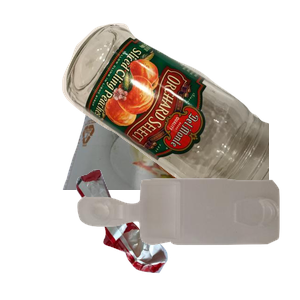glass: (60, 21, 300, 201)
metal: (60, 82, 300, 262)
plastic: (75, 176, 300, 300)
trash: (74, 167, 235, 300)
